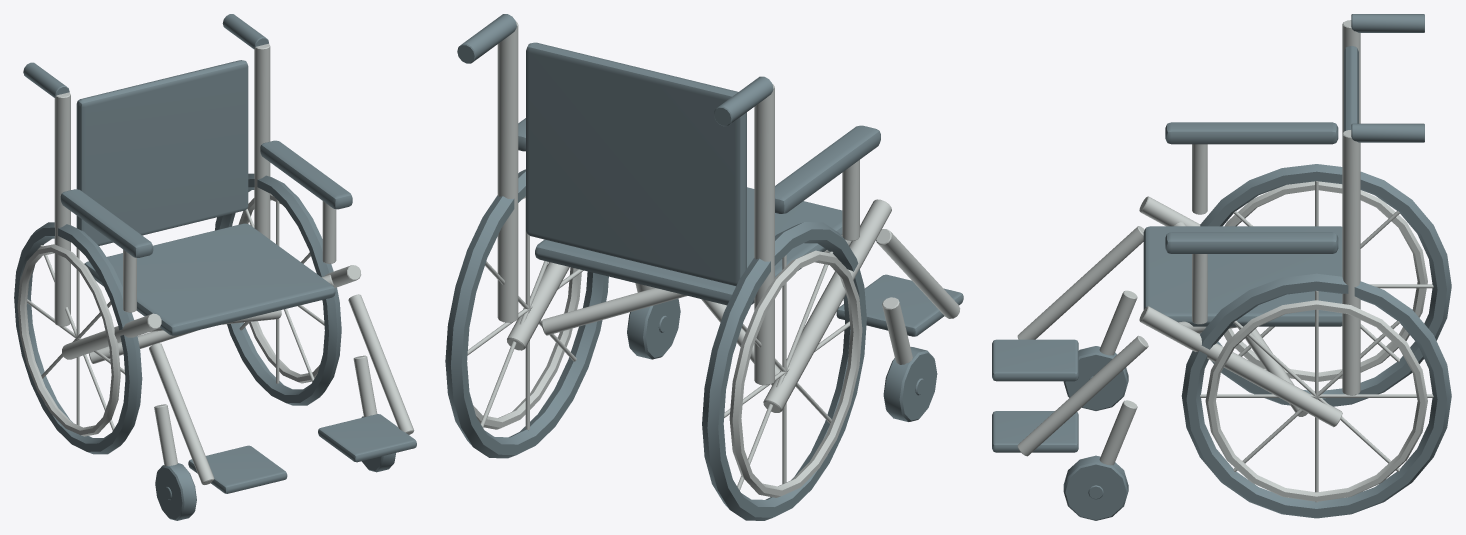
Rendered from wheelchair.glb.
3 renders of one model, left to right at view 1: azimuth 30°, elevation 25°; view 2: azimuth 150°, elevation 25°; view 3: azimuth 270°, elevation 25°, orthographic. The views are drawn at different scales.
Visible parts, largest first — view 1: backrest, seat, rear_tire, rear_tire.001, push_rim, back_post, footplate.001, back_post.001, footplate, armrest, armrest.001, foot_support (+12 smaller); view 2: backrest, rear_tire, rear_tire.001, push_rim, seat, back_post.001, back_post, side_frame, armrest, footplate, front_caster_wheel, cross_brace.001 (+8 smaller); view 3: rear_tire.001, seat, rear_tire, push_rim.001, back_post.001, push_rim, armrest, side_frame.001, armrest.001, footplate, front_caster_wheel.001, footplate.001 (+13 smaller).
Boxes of the visible parts, <box> form: backrest: <box>76,60,248,245</box>; seat: <box>84,223,335,335</box>; rear_tire: <box>14,222,142,454</box>; rear_tire.001: <box>215,173,341,405</box>; push_rim: <box>17,244,120,436</box>; back_post: <box>54,92,70,326</box>; footplate.001: <box>318,414,416,462</box>; back_post.001: <box>254,43,270,239</box>; footplate: <box>188,445,287,493</box>; armrest: <box>60,189,153,257</box>; armrest.001: <box>260,140,352,209</box>; foot_support: <box>149,343,214,484</box>; backrest: <box>526,42,746,285</box>; rear_tire: <box>702,222,866,520</box>; rear_tire.001: <box>445,169,608,458</box>; push_rim: <box>729,250,862,497</box>; seat: <box>535,187,842,305</box>; back_post.001: <box>497,21,518,322</box>; back_post: <box>754,84,774,385</box>; side_frame: <box>763,199,891,412</box>; armrest: <box>775,125,880,213</box>; footplate: <box>836,274,963,336</box>; front_caster_wheel: <box>883,347,937,421</box>; cross_brace.001: <box>541,235,851,335</box>; rear_tire.001: <box>1181,273,1451,518</box>; seat: <box>1143,226,1342,326</box>; rear_tire: <box>1199,164,1451,406</box>; push_rim.001: <box>1205,300,1427,501</box>; back_post.001: <box>1342,130,1360,395</box>; push_rim: <box>1224,181,1427,381</box>; armrest: <box>1165,122,1338,144</box>; side_frame.001: <box>1139,306,1342,427</box>; armrest.001: <box>1165,232,1338,253</box>; footplate: <box>992,339,1078,381</box>; front_caster_wheel.001: <box>1063,455,1128,520</box>; footplate.001: <box>992,411,1078,452</box>.
Bounding box in the file's own units: 0.6748 × 1 × 1.06.
